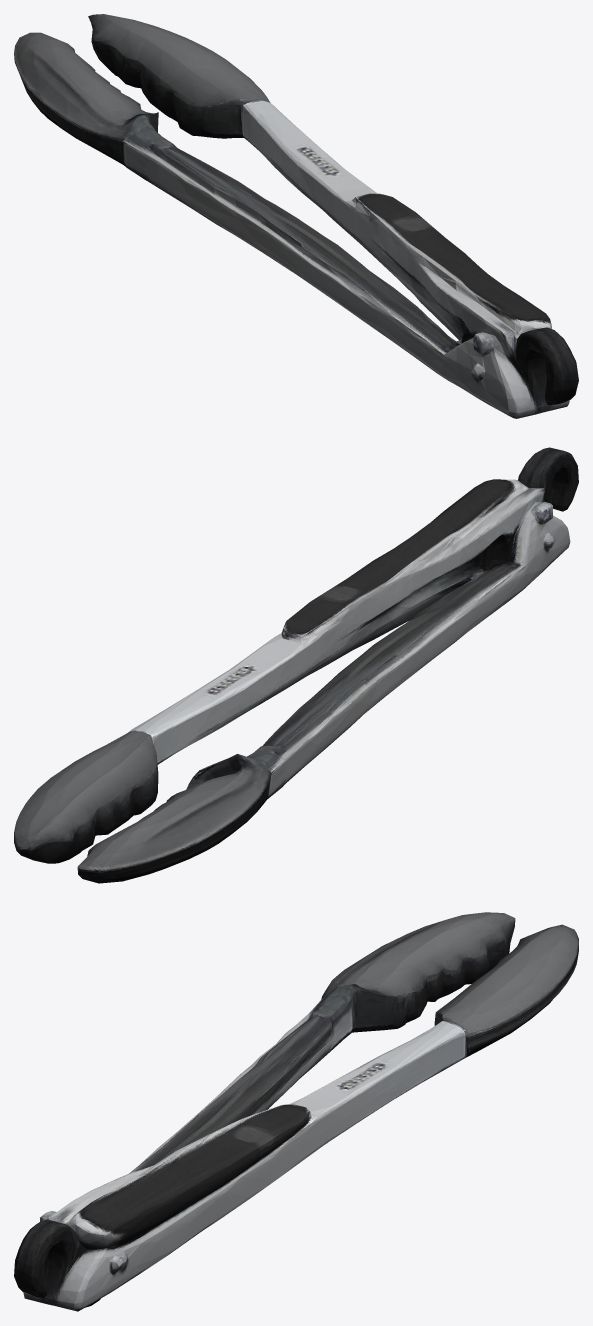
File: Locking Tongs.glb
3 views of the same model, one above another, from view 1: azimuth 30°, elevation 25°; view 2: azimuth 150°, elevation 25°; view 3: azimuth 330°, elevation 25° (orthographic).
Parts seen in each view (by area): view 1: world; view 2: world; view 3: world.
Part boxes in pixels (x1,y1,x2,y2): world: (14, 14, 578, 418); world: (14, 447, 578, 883); world: (14, 912, 578, 1311).
Bounding box in the file's own units: 0.2025 × 0.1127 × 0.9991.
1 material, 1 textured.
